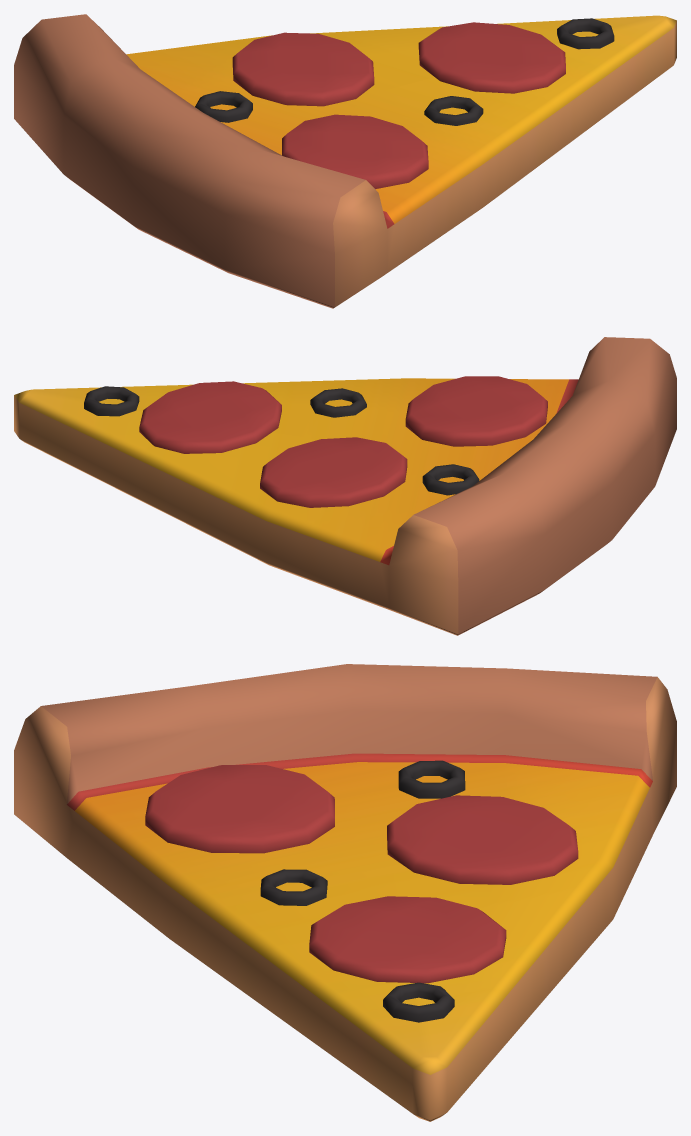
The model's file is Pizza Slice.fbx.
3 views of the same model, one above another, from view 1: azimuth 30°, elevation 25°; view 2: azimuth 150°, elevation 25°; view 3: azimuth 270°, elevation 25° (orthographic). The views are drawn at different scales.
Visible parts, largest first — view 1: Pizza Slice; view 2: Pizza Slice; view 3: Pizza Slice.
Part boxes in pixels (left/top/right/bottom): Pizza Slice: left=14, top=14, right=676, bottom=308; Pizza Slice: left=14, top=337, right=676, bottom=635; Pizza Slice: left=14, top=664, right=676, bottom=1121.
Size of the model in its own units: 48.43 by 9.49 by 39.49.
